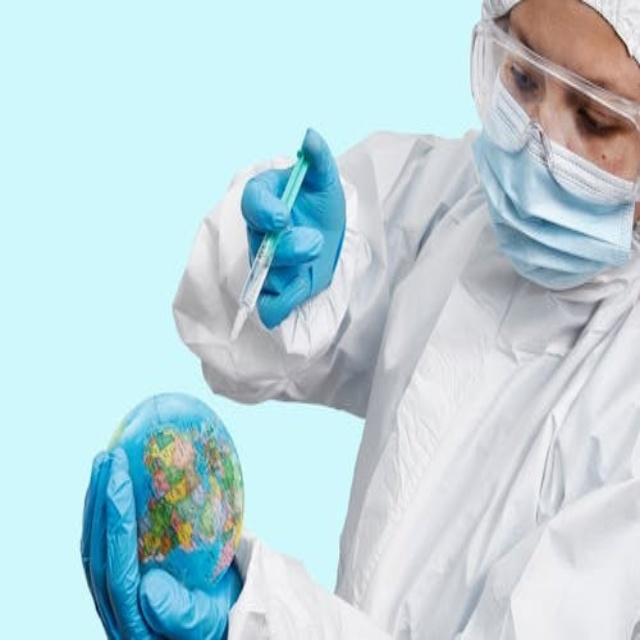Gafas: (471, 9, 640, 201)
Guantes: (82, 388, 245, 640), (240, 126, 346, 331)
Mascara: (471, 14, 640, 288)
